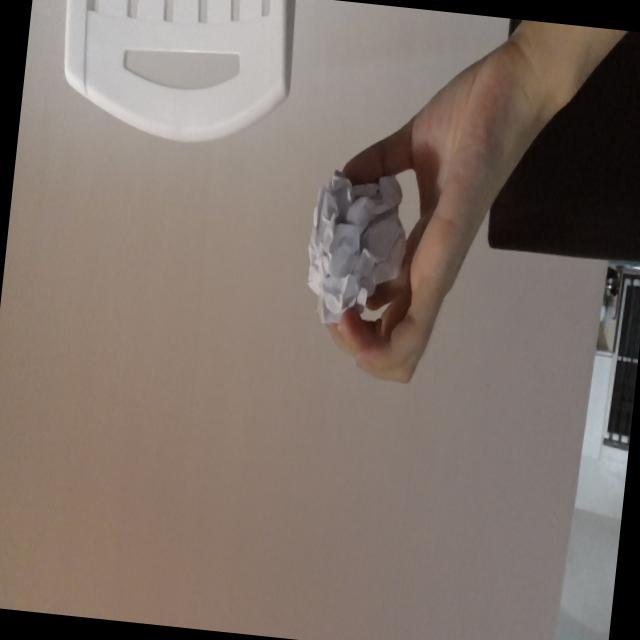crumpled_paper: (295, 156, 413, 352)
